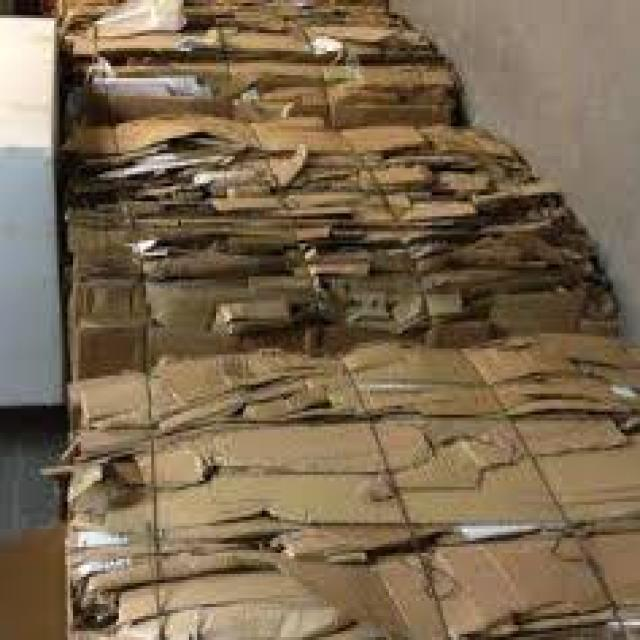cardboard: (60, 331, 638, 637), (60, 120, 621, 373), (54, 0, 451, 123), (0, 523, 62, 637)
